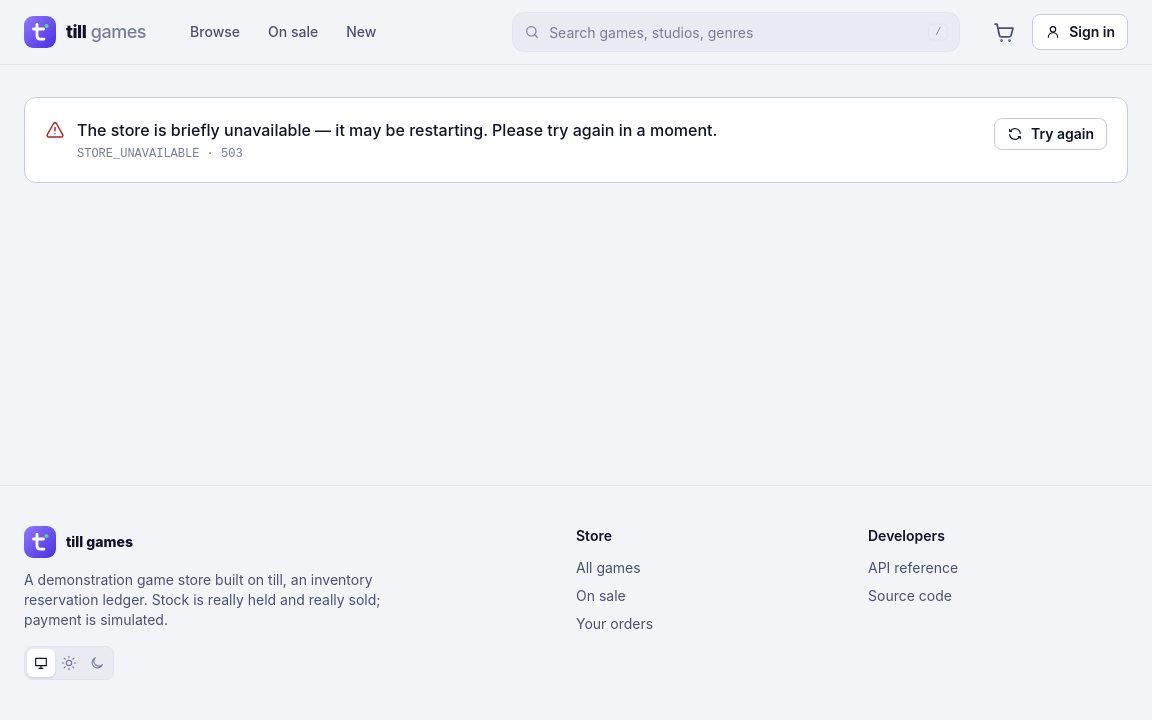
the home page › says what went wrong when the store is down, and retries when asked
Expected: the message shows "briefly unavailable", [77, 120, 717, 140]
What coordinates should you click on to do the following:
click the button "Try again"
I would click on:
 (1050, 134)
Its box is [994, 118, 1107, 150].
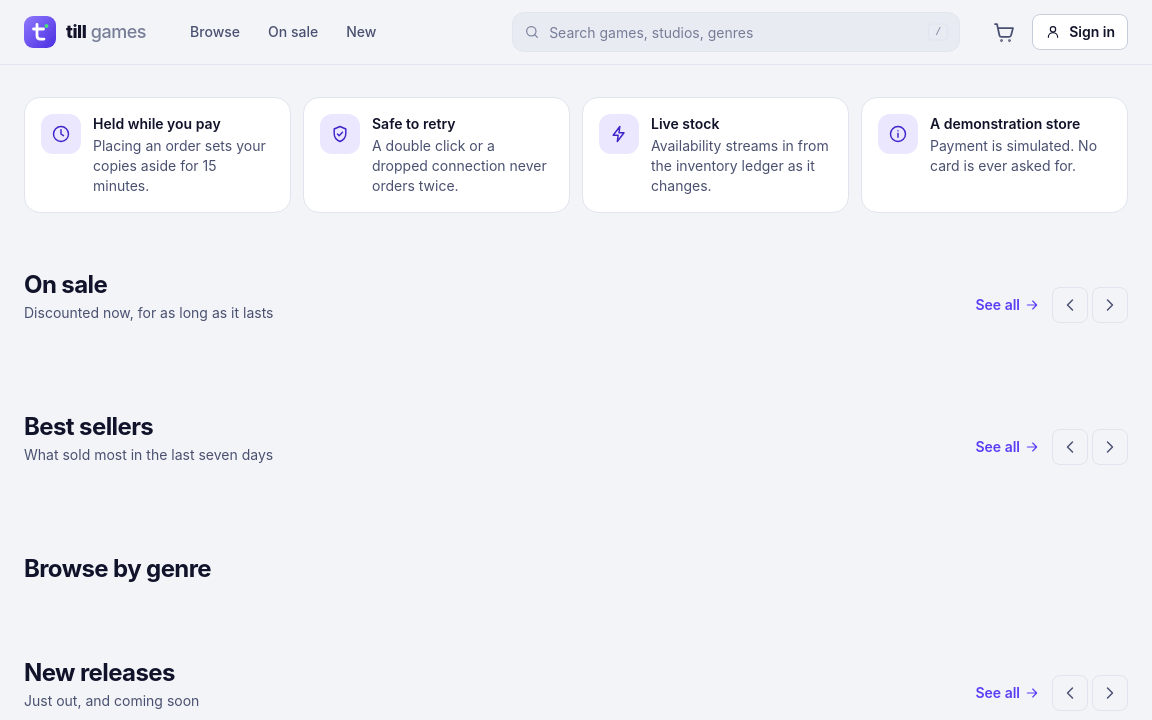
Expected: the message is gone
